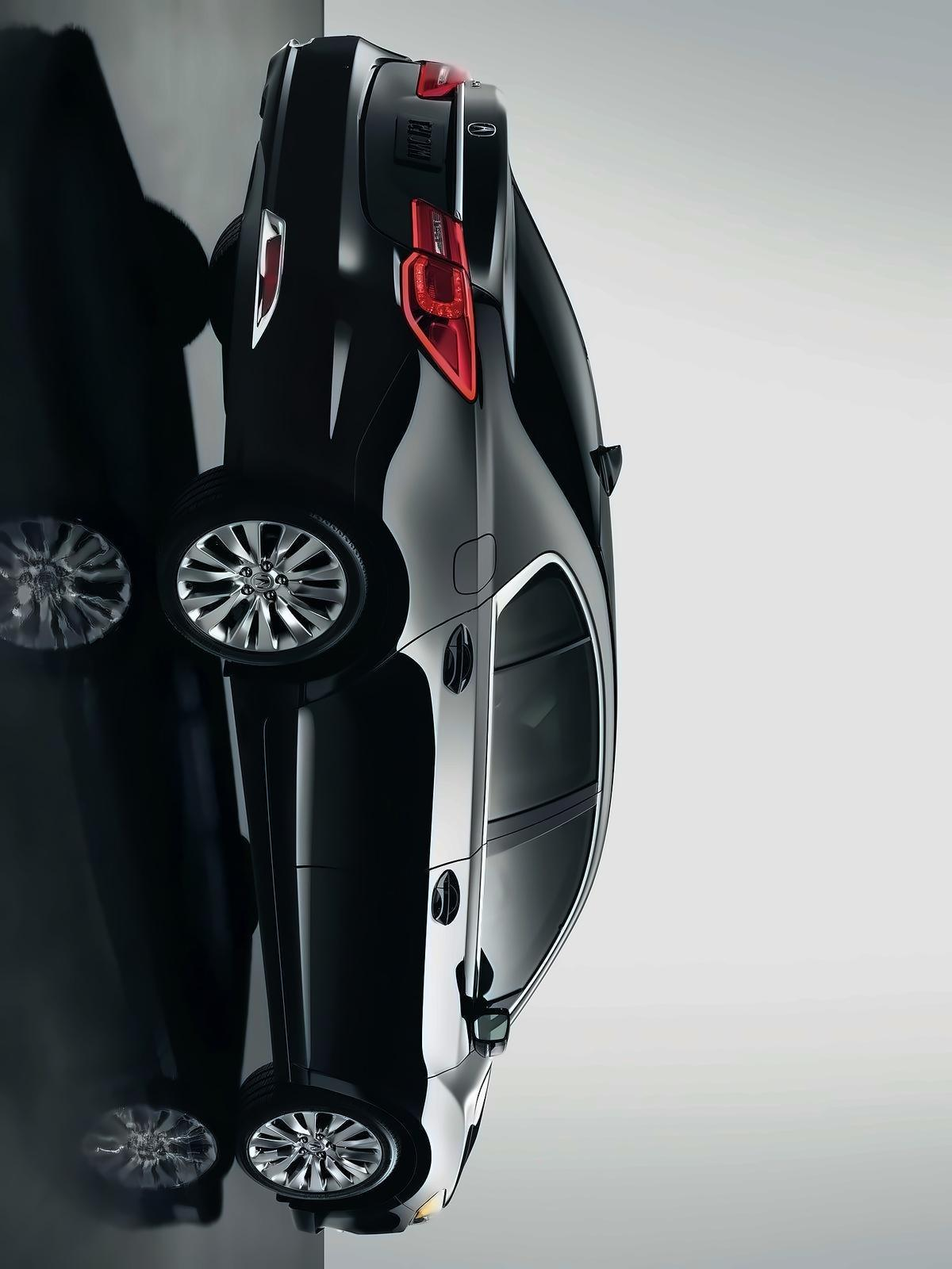Car boot: (345, 40, 516, 373)
Driver-s door - -F-R-: (248, 791, 661, 1076)
Fender - -F-R-: (275, 1007, 525, 1223)
Fender - -R-R-: (269, 375, 569, 704)
Headlight - -R-: (412, 1186, 448, 1228)
Passenger-s door - -R-R-: (206, 553, 641, 916)
Rear bumper: (220, 24, 398, 495)
Rear light - -L-: (417, 54, 472, 109)
Rear light - -R-: (389, 189, 481, 407)
Side bumper - -R-: (206, 657, 351, 1075)
Side mirror - -R-: (452, 982, 518, 1052)
